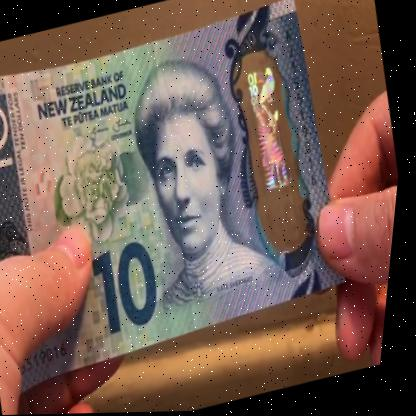10B: (231, 60, 320, 239)
